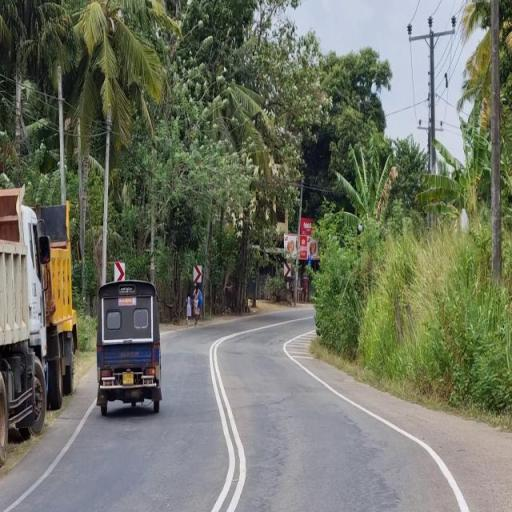double_white_line: (288, 326, 467, 511), (206, 330, 260, 512)
